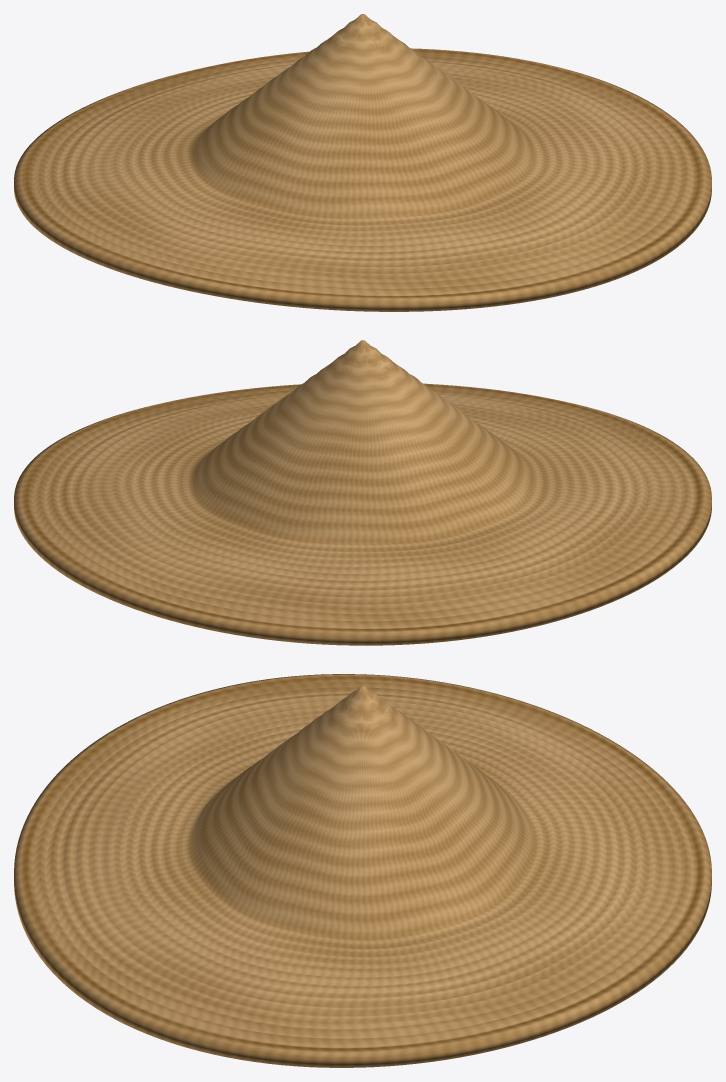
The model's file is side_youngsayo_portrait_straw_hat.glb.
The picture shows the model from 3 angles, top to bottom: view 1: azimuth 30°, elevation 25°; view 2: azimuth 150°, elevation 25°; view 3: azimuth 270°, elevation 25°; orthographic projection. The views are drawn at different scales.
Visible parts, largest first — view 1: geometry_0; view 2: geometry_0; view 3: geometry_0.
Part boxes in pixels (x1=…): geometry_0: x1=14, y1=14, x2=711, y2=311; geometry_0: x1=14, y1=340, x2=711, y2=645; geometry_0: x1=14, y1=674, x2=711, y2=1067.
Size of the model in its own units: 29.74 by 8.71 by 25.74.
1 material, 1 textured.
